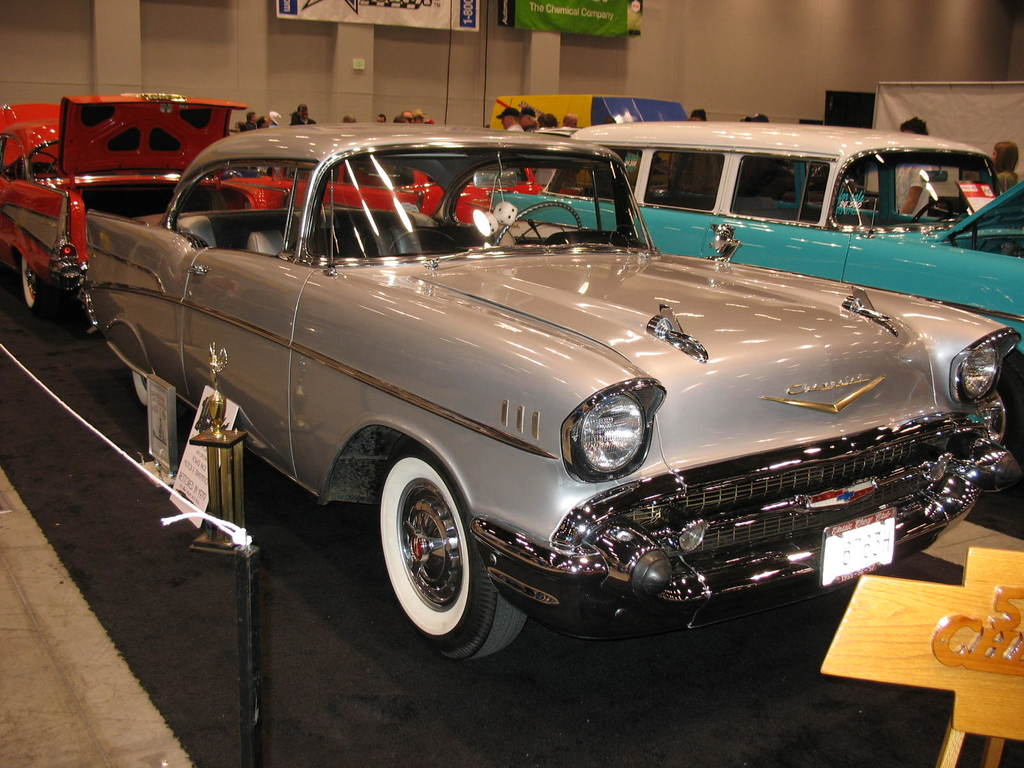Car: (485, 120, 1023, 470), (0, 88, 284, 323), (236, 156, 545, 224)
